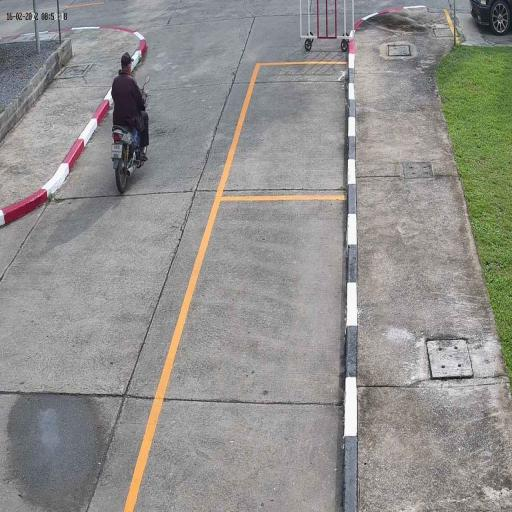motorcycle: (110, 119, 151, 198)
